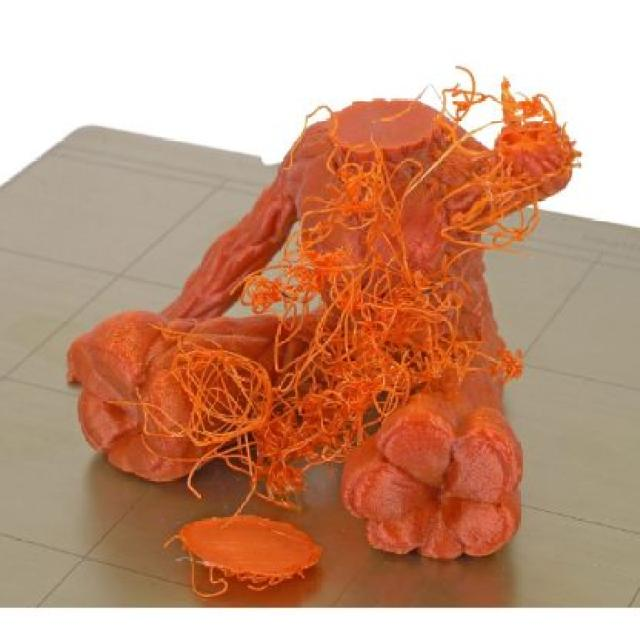spaghetti: (66, 68, 580, 563), (163, 542, 322, 600)
